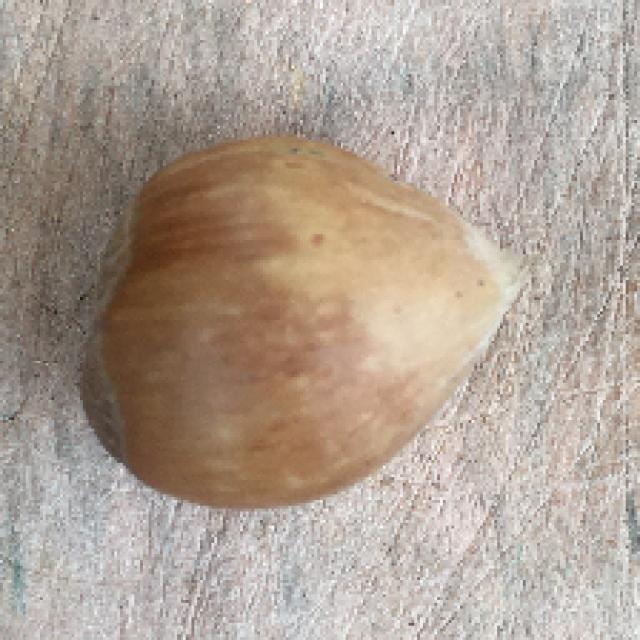qualityHazelnut: (76, 134, 516, 514)
